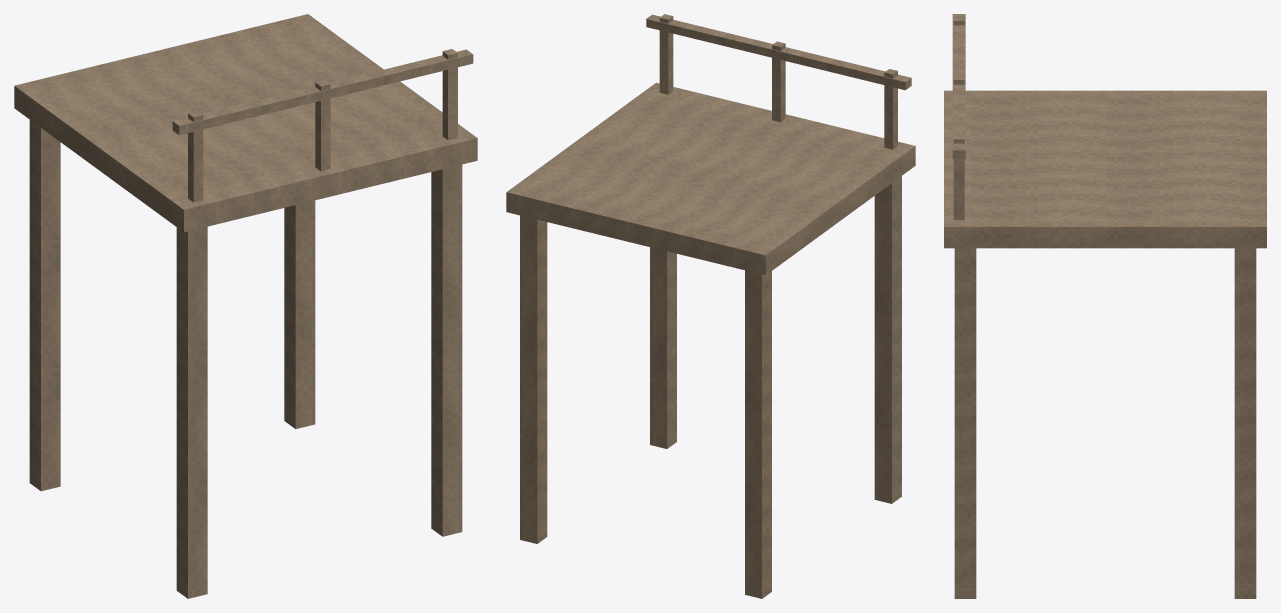
Rendered from level_blockout_lookout_platform.glb.
3 renders of one model, left to right at view 1: azimuth 30°, elevation 25°; view 2: azimuth 150°, elevation 25°; view 3: azimuth 270°, elevation 25°, orthographic. The views are drawn at different scales.
Visible parts, largest first — view 1: level_blockout_lookout_platform; view 2: level_blockout_lookout_platform; view 3: level_blockout_lookout_platform.
Part boxes in pixels (bbox=[...]): level_blockout_lookout_platform: bbox=[14, 14, 477, 598]; level_blockout_lookout_platform: bbox=[506, 14, 915, 598]; level_blockout_lookout_platform: bbox=[944, 14, 1266, 598].
Bounding box in the file's own units: 3 × 4.69 × 3.
Materials: 1 (1 with a texture image).
